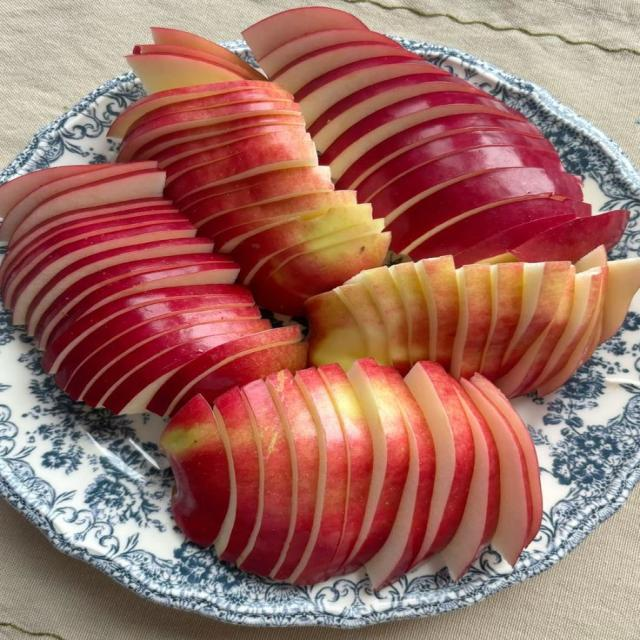apple: (56, 303, 267, 405), (35, 238, 222, 349), (3, 221, 194, 324), (42, 285, 253, 373), (387, 167, 581, 260), (323, 92, 525, 180), (27, 238, 202, 334), (359, 146, 563, 226), (337, 112, 544, 188), (366, 375, 438, 589), (308, 68, 485, 152), (147, 325, 307, 415), (0, 210, 185, 287), (0, 199, 176, 279), (405, 362, 474, 566), (358, 130, 556, 201), (460, 379, 533, 566), (346, 359, 410, 570), (252, 221, 390, 315), (288, 368, 348, 584), (9, 168, 165, 250), (0, 162, 157, 242), (471, 375, 542, 544), (420, 195, 591, 265), (233, 380, 293, 575), (440, 382, 499, 580), (265, 370, 320, 580), (318, 364, 373, 572), (233, 204, 373, 285), (118, 101, 301, 162), (296, 55, 447, 125), (165, 139, 318, 208), (160, 396, 229, 546), (530, 268, 606, 396), (109, 80, 272, 139), (199, 191, 356, 252), (164, 131, 314, 194), (181, 166, 333, 228), (118, 112, 304, 162), (270, 39, 420, 99), (0, 165, 105, 242), (502, 262, 575, 370), (214, 388, 259, 561), (242, 7, 368, 63), (260, 28, 399, 77), (347, 267, 411, 373), (153, 124, 304, 168), (305, 286, 381, 368), (509, 211, 630, 261), (479, 263, 525, 380), (126, 53, 254, 93), (416, 256, 459, 369), (449, 265, 492, 378), (133, 43, 264, 79), (151, 28, 253, 68), (390, 262, 429, 363)
